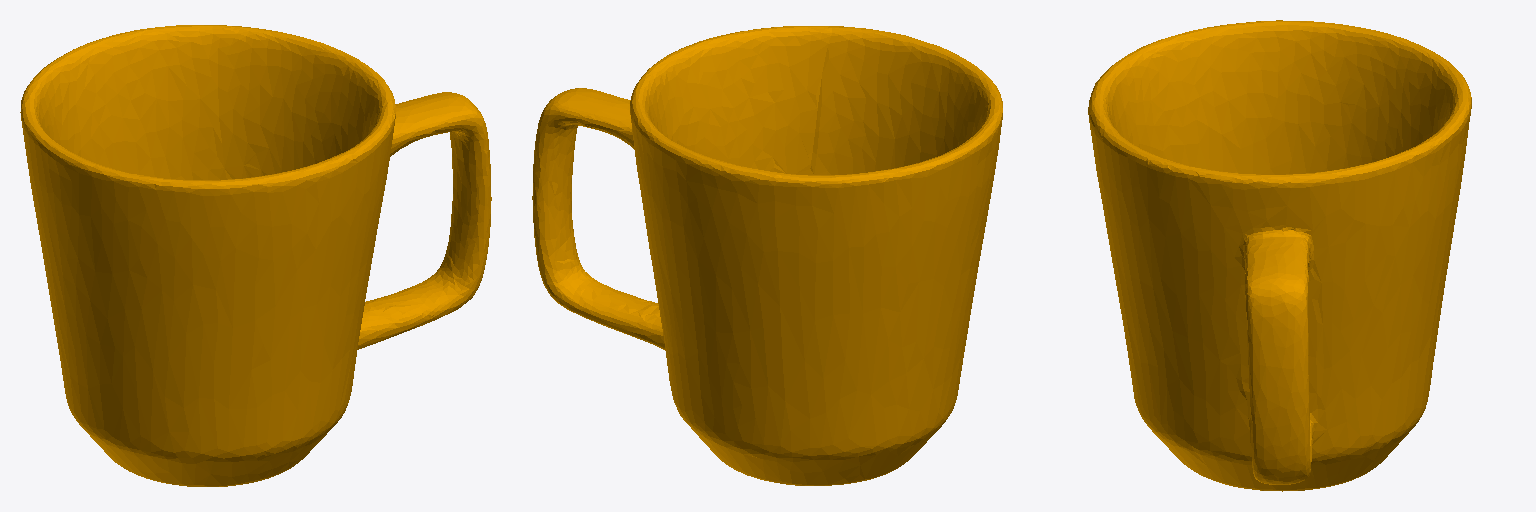
robot.urdf — white_yellow_mug:
<?xml version="1.0"?>
<!-- GENERATED by tasks/libero/build_env/build_object_urdf.py. Do not hand edit.

     LIBERO object `white_yellow_mug`, spawnable by the TRO-MP env.
     Role: graspable target object (envs/), one of the 22 LIBERO target assets.

     WHY a URDF when envs/white_yellow_mug/ may also hold a USD: this env spawns objects
     only through `assets.object_urdf` (scene_utils.py:1929, which calls
     _convert_urdf_to_usd at :1964). The assets dataclass declares no USD field,
     so a ready-made USD cannot be handed to this code path.

     Mesh coordinates are PRESERVED, not re-centred: 11 of 22 LIBERO envs have
     their mesh origin at the object's base, and `goal_traj` tracks that origin.
     Re-centring would offset the object from its own trajectory every frame.

     Mass: density 800.0 kg/m^3 x mesh volume 1.723993e-04 m^3
     Inertia: solid-box approximation about the COM at that mass, NOT the true
     mesh inertia tensor. Adequate for a graspable tabletop object; revisit if
     spin dynamics matter.

     Collision: the full mesh, decomposed by Isaac's URDF importer. The convex
     decomposition authored in the DexVerse USD is NOT reproduced here.
-->
<robot name="white_yellow_mug">
  <link name="white_yellow_mug">
    <inertial>
      <origin xyz="-0.012033 -0.000578 0.054209" rpy="0 0 0"/>
      <mass value="0.137919"/>
      <inertia ixx="2.469399e-04" ixy="0" ixz="0" iyy="3.458252e-04" iyz="0" izz="3.403315e-04"/>
    </inertial>
    <visual>
      <origin xyz="0 0 0" rpy="0 0 0"/>
      <geometry><mesh filename="white_yellow_mug.obj" scale="1 1 1"/></geometry>
    </visual>
    <collision>
      <origin xyz="0 0 0" rpy="0 0 0"/>
      <geometry><mesh filename="white_yellow_mug.obj" scale="1 1 1"/></geometry>
    </collision>
  </link>
</robot>

--- What the picture shows (computed from the rendered views, not written in the file) ---
Views: 3 orthographic renders of the robot side by side, from view 1: azimuth 30°, elevation 25°; view 2: azimuth 150°, elevation 25°; view 3: azimuth 270°, elevation 25°.
Robot: white_yellow_mug — 1 links, 0 joints (none); root link white_yellow_mug; default pose: all joints at 0.
Links seen in each view (by area): view 1: white_yellow_mug; view 2: white_yellow_mug; view 3: white_yellow_mug.
Link boxes in pixels (x1,y1,x2,y2): white_yellow_mug: (20,25,491,486); white_yellow_mug: (532,26,1002,485); white_yellow_mug: (1088,20,1471,491).
Bounding box of the posed robot: 0.1382 × 0.1025 × 0.1048 m (x, y, z).
Meshes: 1 distinct files referenced, 1 mesh visuals loaded (1 OBJ).
